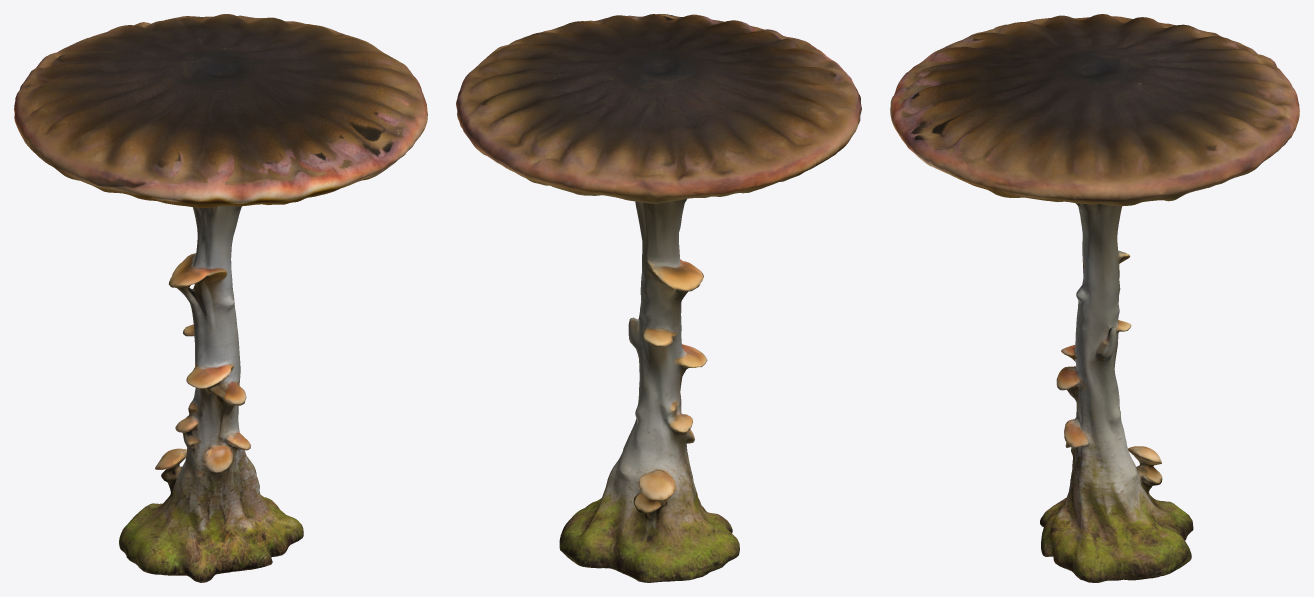
File: AI_MushroomTree.fbx
3 views of the same model, side by side, from view 1: azimuth 30°, elevation 25°; view 2: azimuth 150°, elevation 25°; view 3: azimuth 270°, elevation 25° (orthographic). The views are drawn at different scales.
Parts seen in each view (by area): view 1: Mesh1.0; view 2: Mesh1.0; view 3: Mesh1.0.
Boxes of the visible parts, left/top/right/bottom form: Mesh1.0: left=14, top=14, right=427, bottom=582; Mesh1.0: left=456, top=14, right=861, bottom=582; Mesh1.0: left=890, top=14, right=1299, bottom=582.
Bounding box in the file's own units: 155 × 200 × 156.
Materials: 1 (1 with a texture image).
